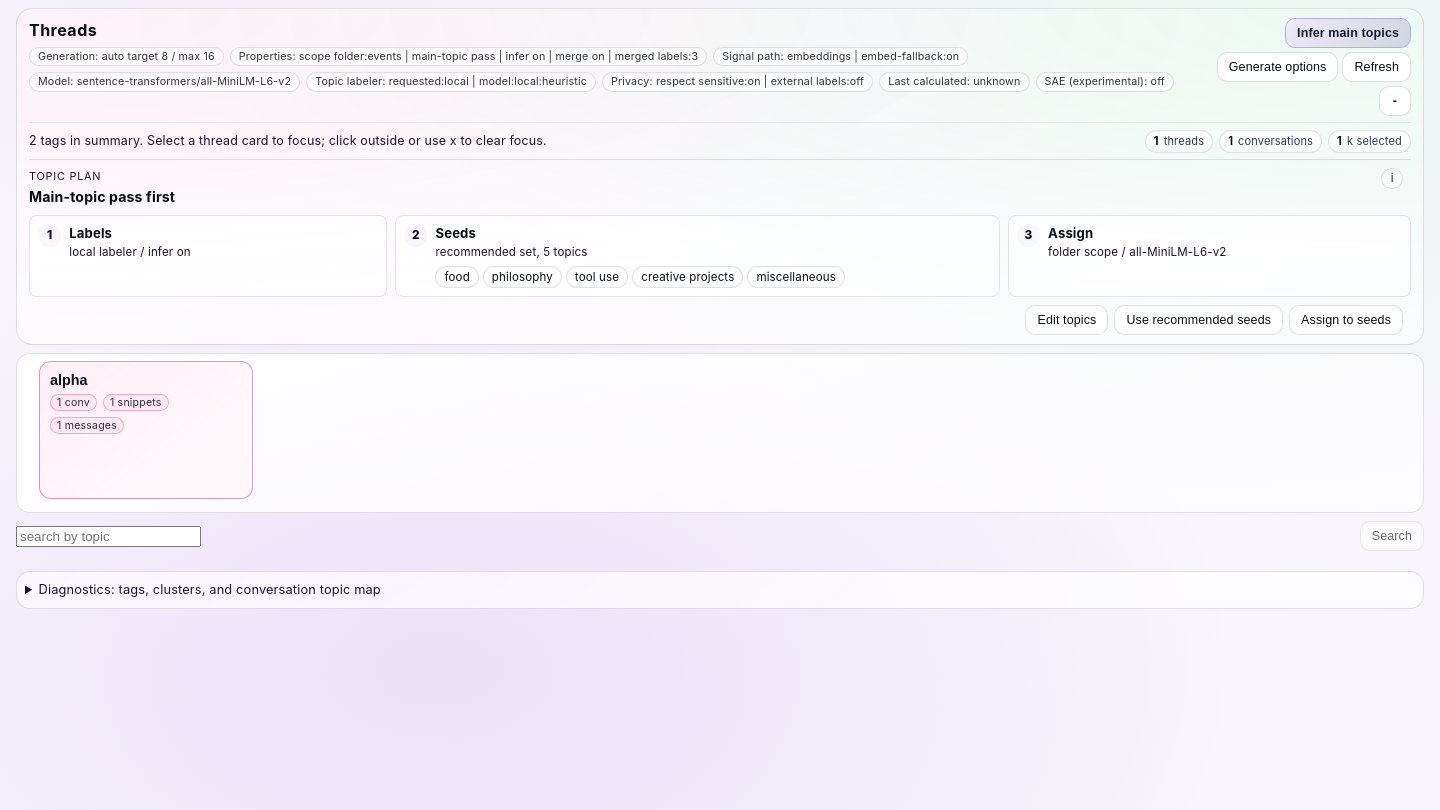
Test: ThreadsTab › prefills generate options from the latest summary hints
Click the button "Generate options" at (1278, 67), box top-left (1217, 52), bottom-right (1338, 82)
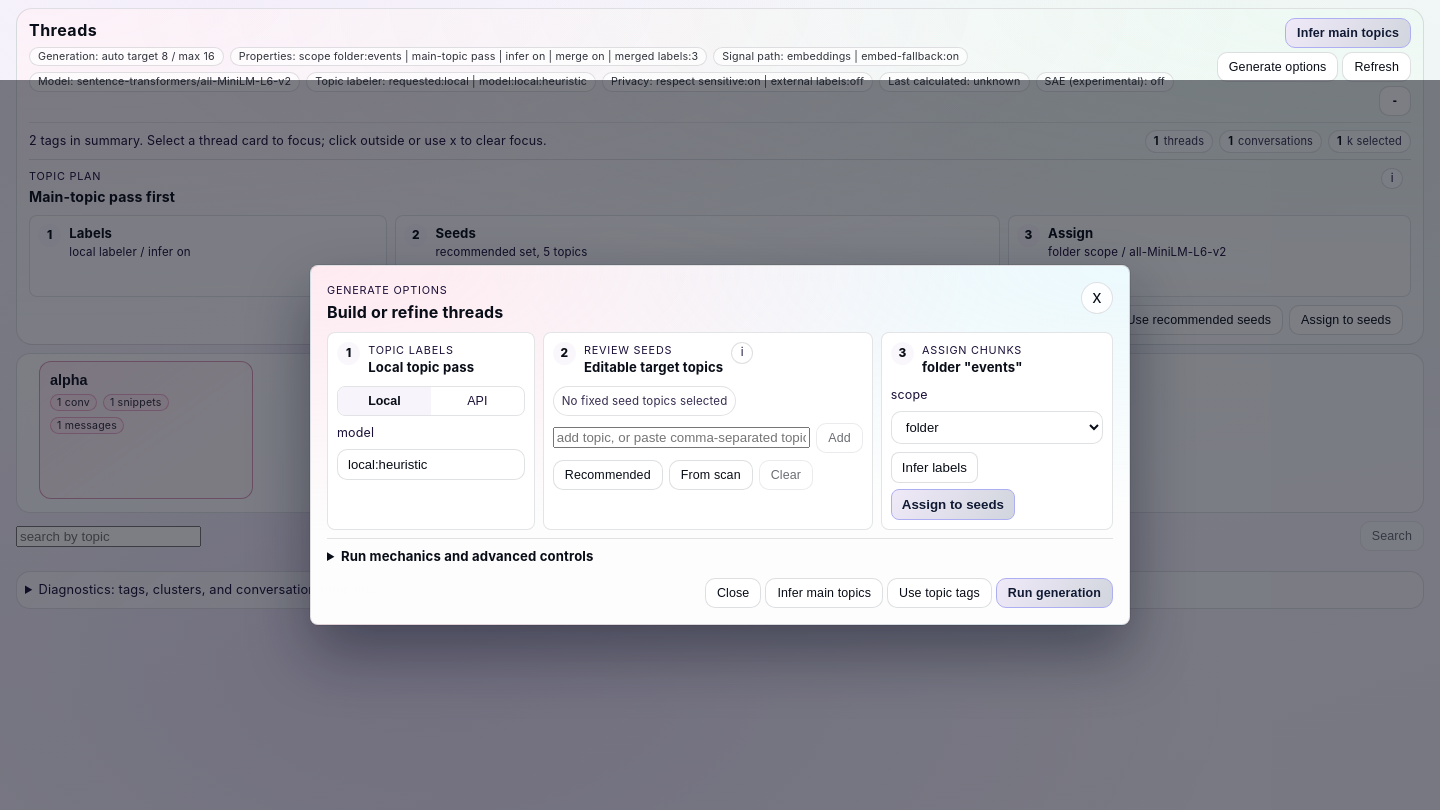
Click the heading "Run mechanics and advanced controls" at (467, 556), box top-left (341, 548), bottom-right (594, 564)
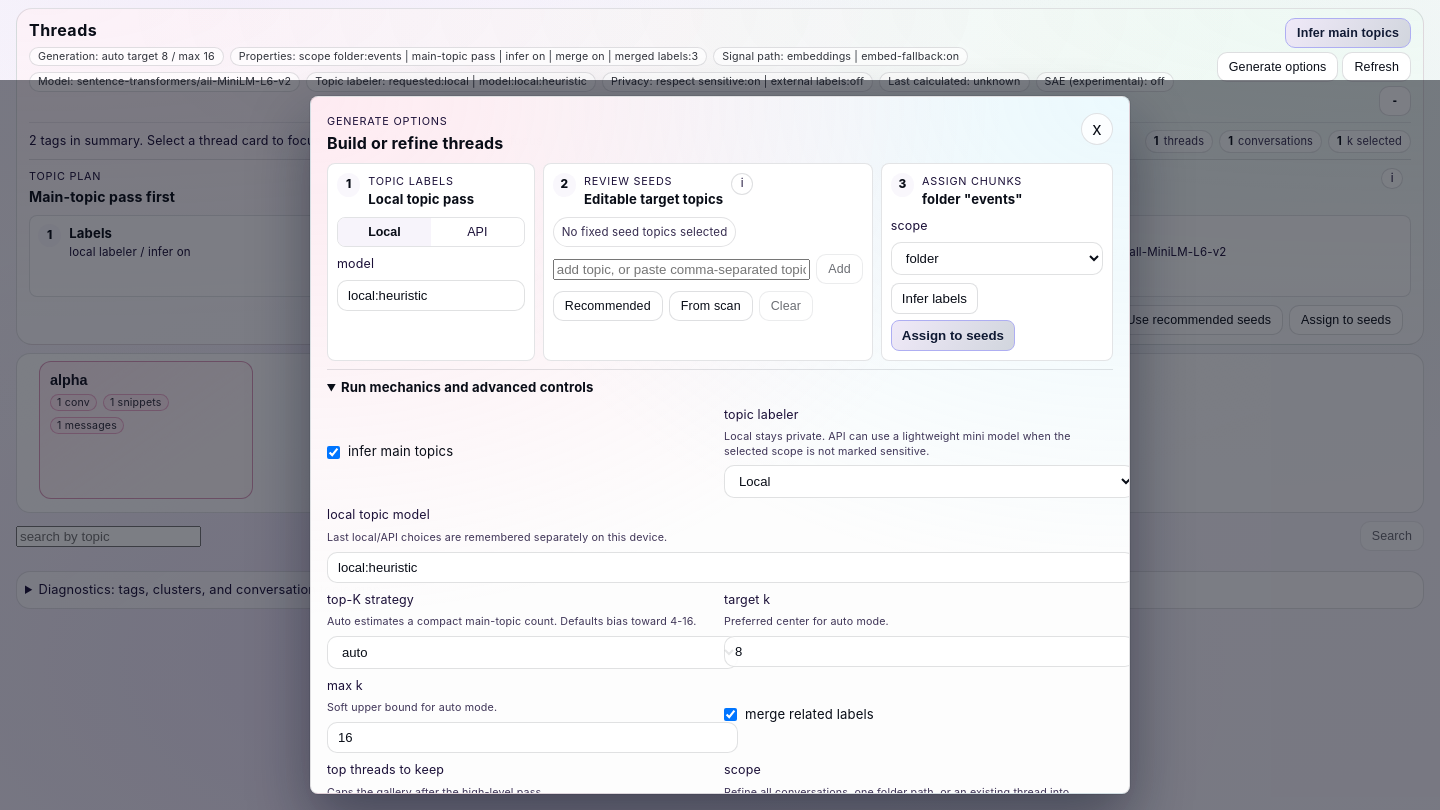
Now the dropdown labelled "top-K strategy" shows "auto", box top-left (327, 636), bottom-right (738, 669)
Now the number field labelled "target k Preferred center for auto mode." holds "8", box top-left (724, 636), bottom-right (1130, 667)
Now the number field labelled "max k Soft upper bound for auto mode." holds "16", box top-left (327, 722), bottom-right (738, 753)
